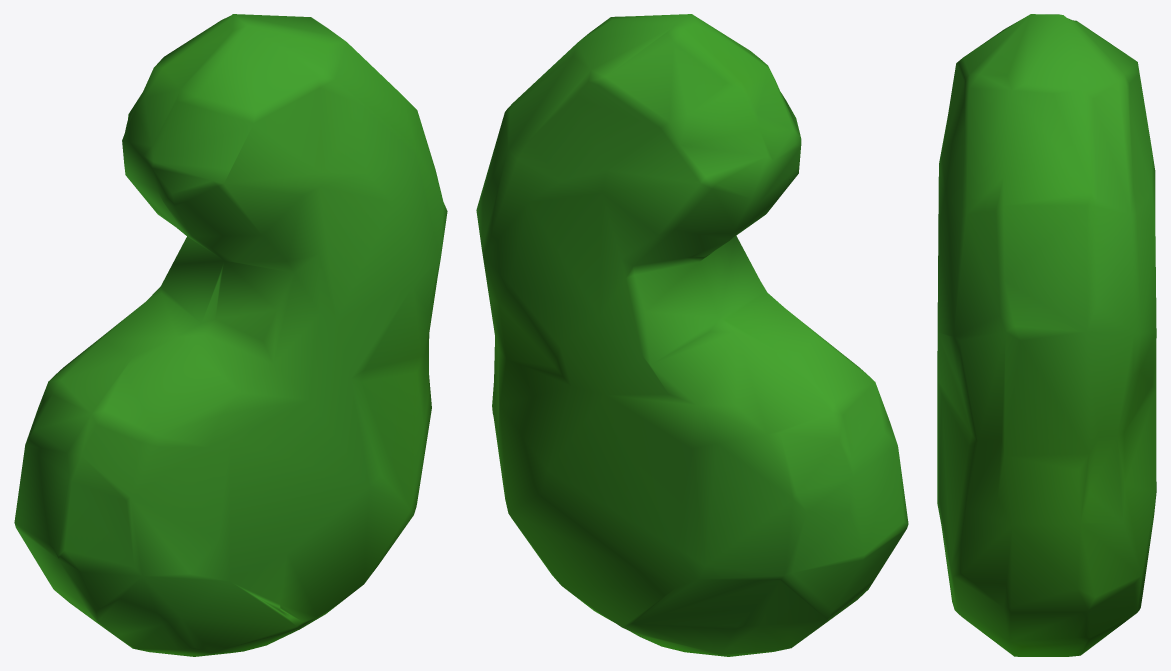
The model's file is gen3d-magic-bean-lod1.glb.
The picture shows the model from 3 angles, left to right: view 1: azimuth 30°, elevation 25°; view 2: azimuth 150°, elevation 25°; view 3: azimuth 270°, elevation 25°; orthographic projection.
Parts seen in each view (by area): view 1: part_0; view 2: part_0; view 3: part_0.
Part boxes in pixels (box(x1,y1,x2,y2)): part_0: box(14, 14, 447, 656); part_0: box(476, 14, 908, 656); part_0: box(937, 14, 1156, 656).
Size of the model in its own units: 0.6538 by 0.9989 by 0.313.
